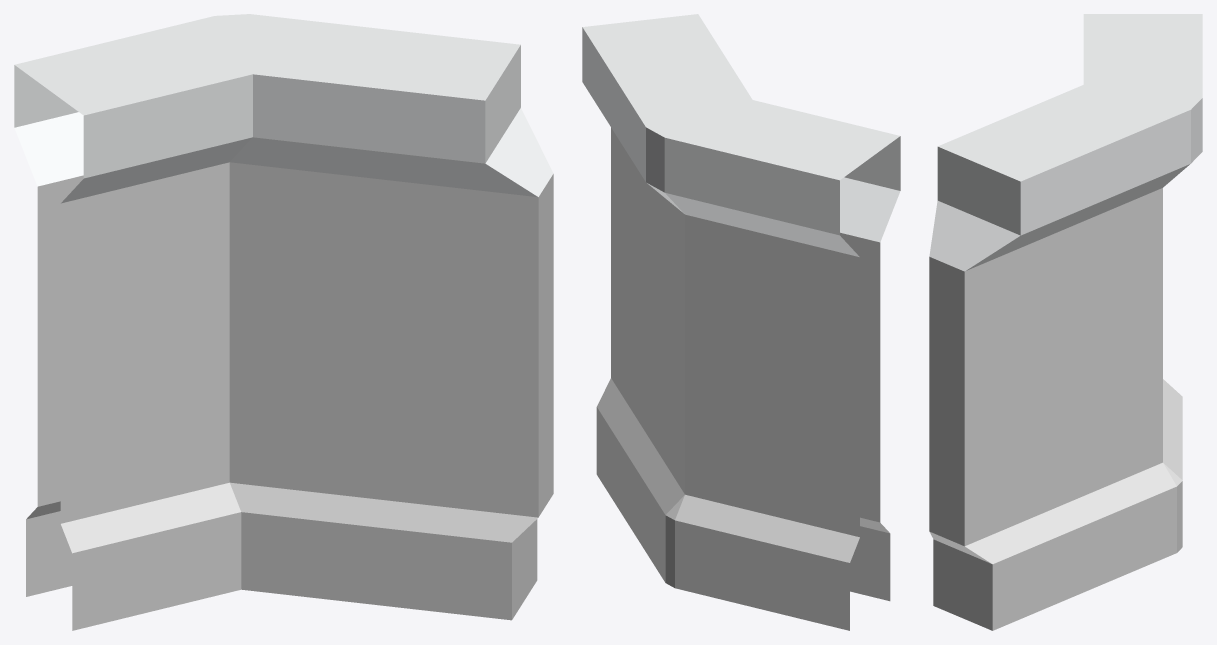
The model's file is wall_f_l.fbx.
The picture shows the model from 3 angles, left to right: view 1: azimuth 30°, elevation 25°; view 2: azimuth 150°, elevation 25°; view 3: azimuth 270°, elevation 25°; orthographic projection. The views are drawn at different scales.
Visible parts, largest first — view 1: wall_f_l; view 2: wall_f_l; view 3: wall_f_l.
Part boxes in pixels (x1,y1,x2,y2): wall_f_l: [14, 14, 553, 630]; wall_f_l: [582, 14, 900, 630]; wall_f_l: [929, 14, 1202, 630].
Size of the model in its own units: 2 by 2.5 by 1.38.
